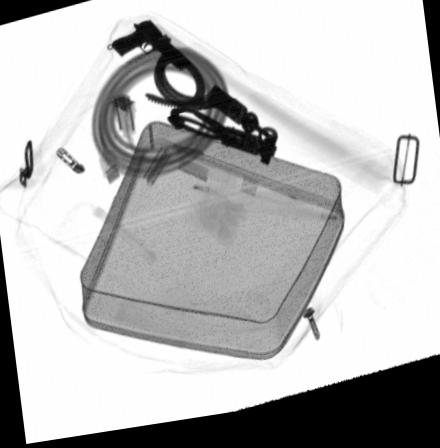Gun: (109, 22, 192, 80)
HandCuffs: (141, 56, 280, 178)
